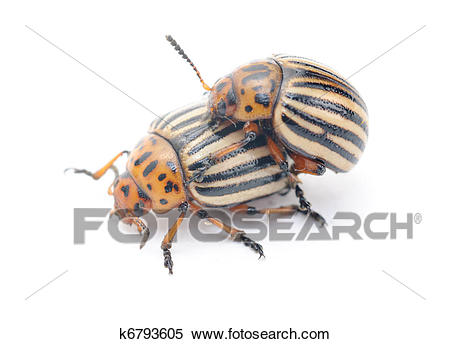hrosc: (106, 94, 293, 243), (201, 39, 377, 182)
